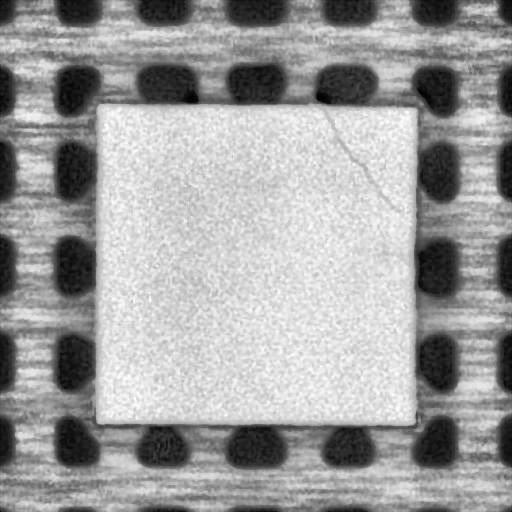DIE_CRACK: (320, 105, 397, 211)
